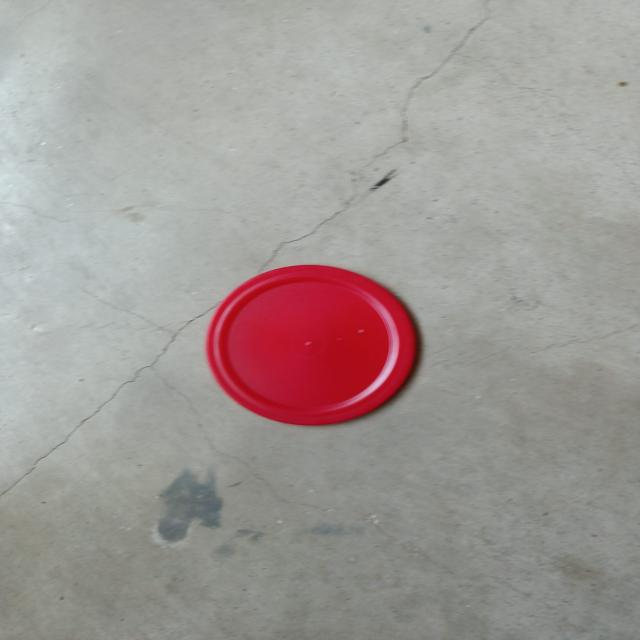chip: (189, 258, 424, 436)
